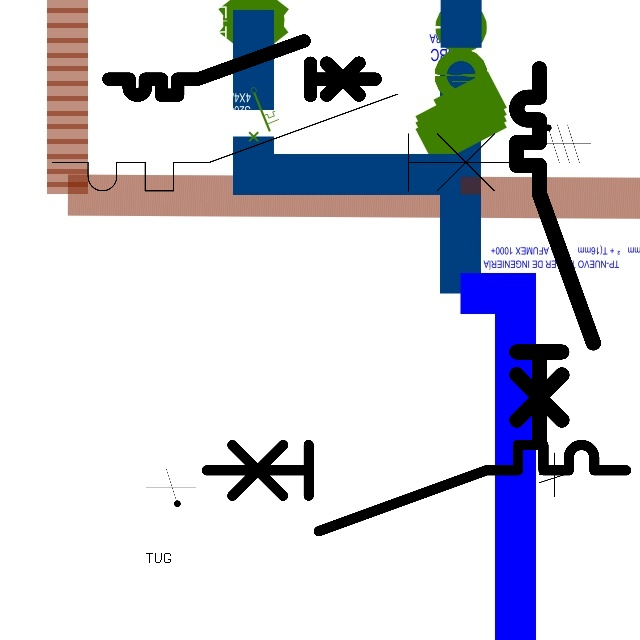interruptor_termomagnetico: (40, 82, 535, 203), (195, 434, 636, 542), (507, 59, 603, 453), (102, 34, 382, 102)
